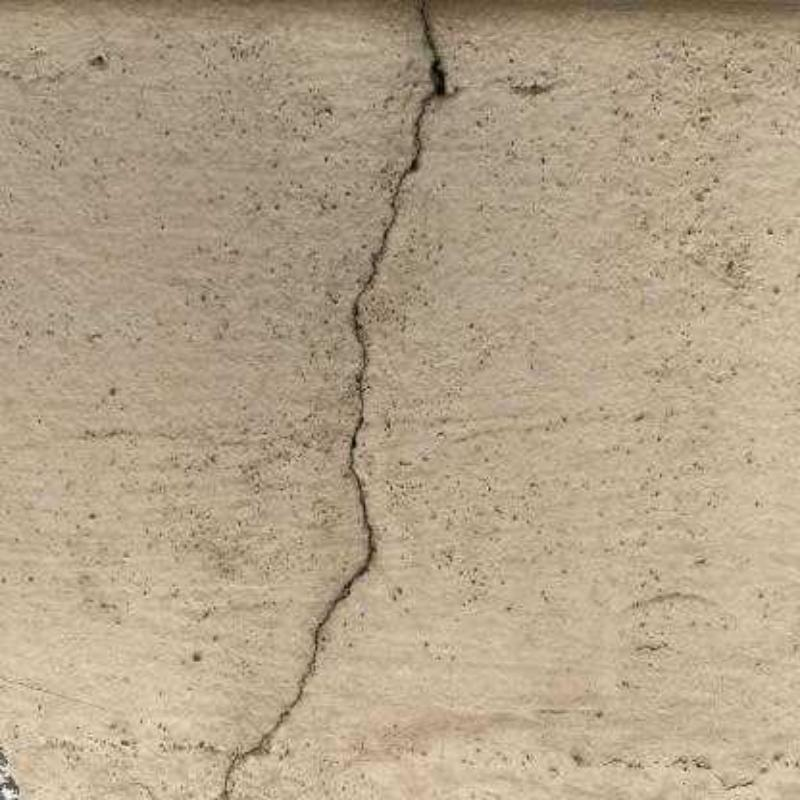crack: (224, 0, 445, 800)
